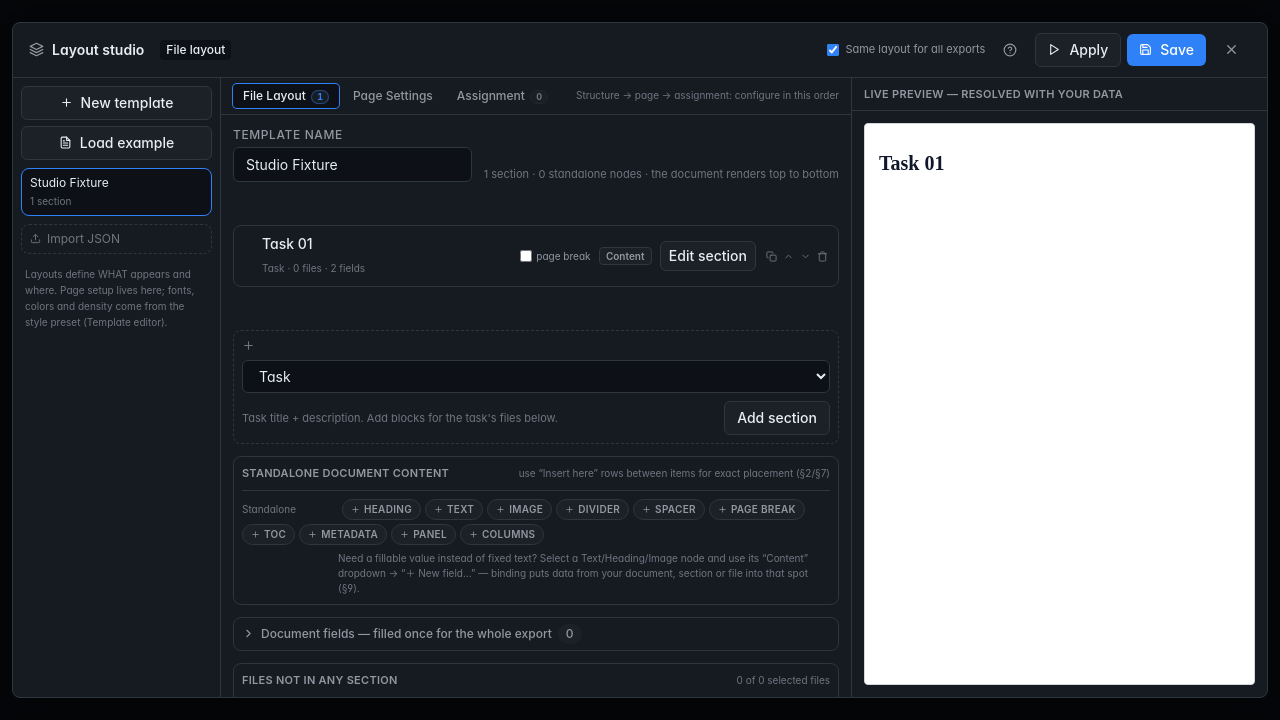
Test: Page & Layout dependency gates (§4) › TOC group collapses — chip tracks alignment, gate works while collapsed (WS-7b)
Click the tab "Page Settings" at (393, 96), box top-left (343, 84), bottom-right (443, 108)
(page scrolled)
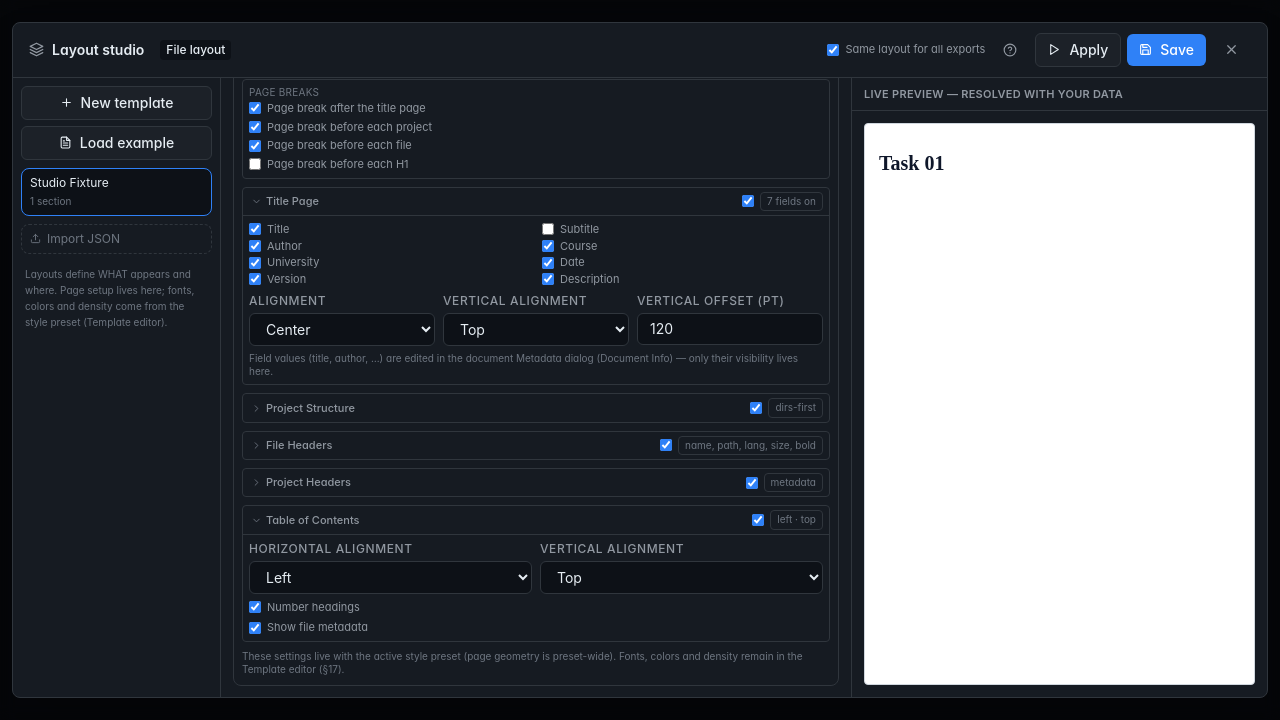
Expected: the text "left · top" is shown, top-left (770, 510), bottom-right (823, 530)
Click the button "Table of Contents" at (313, 520), box top-left (249, 511), bottom-right (746, 529)
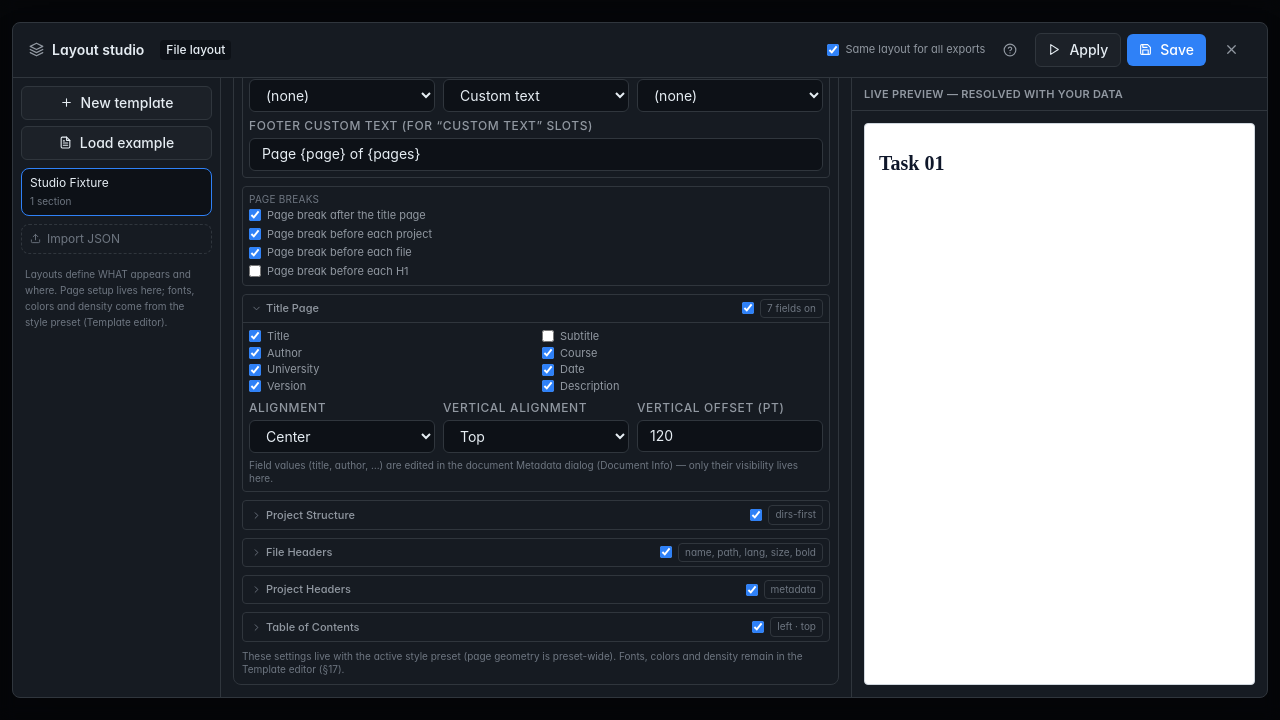
Expected: the text "left · top" is shown, top-left (770, 617), bottom-right (823, 637)
Expected: the button "Table of Contents" is collapsed, top-left (249, 618), bottom-right (746, 636)
Click the checkbox named "Table of contents" at (758, 627), box top-left (752, 621), bottom-right (764, 633)
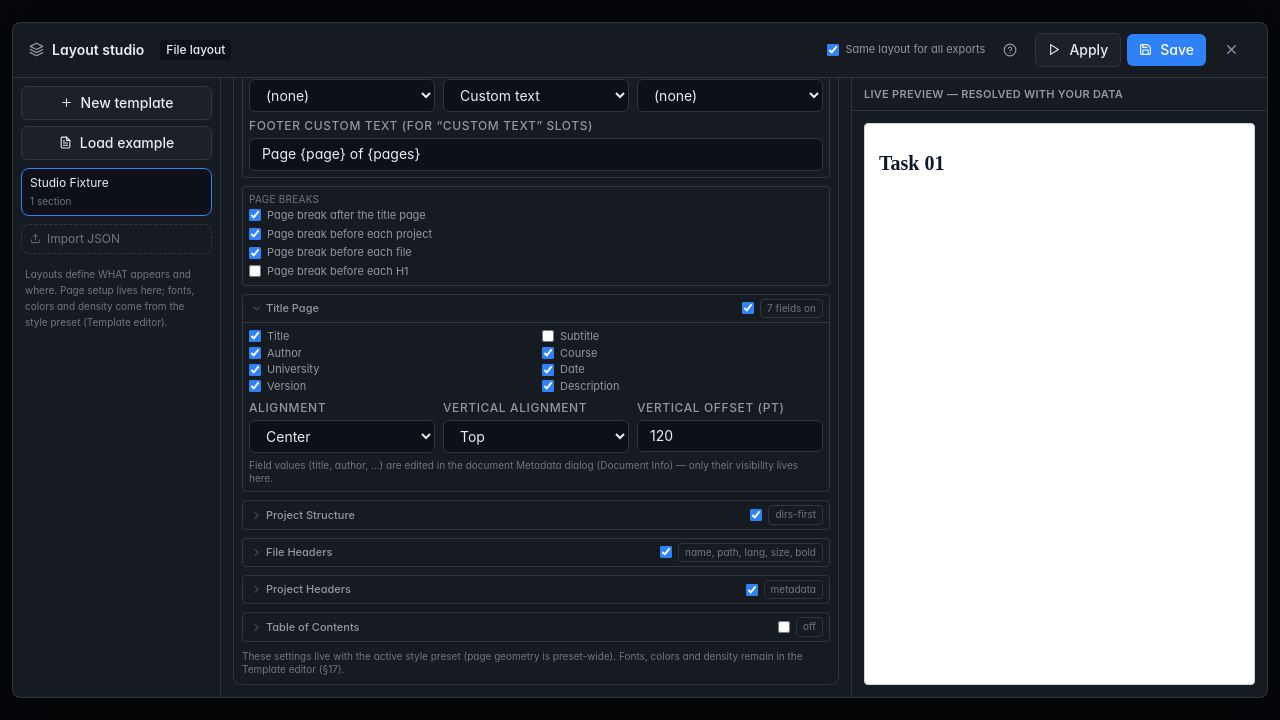
Expected: the text "off" is shown, top-left (796, 617), bottom-right (823, 637)
Click the checkbox named "Table of contents" at (784, 627), box top-left (778, 621), bottom-right (790, 633)
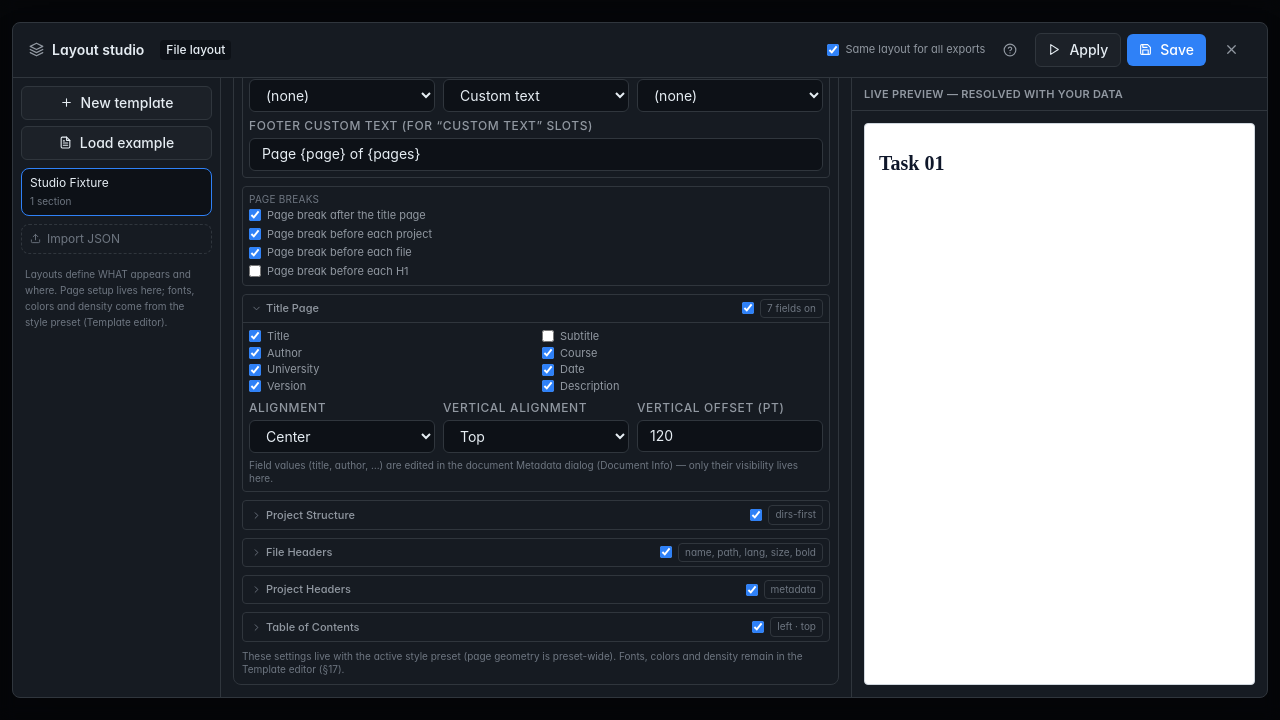
Expected: the text "left · top" is shown, top-left (770, 617), bottom-right (823, 637)
